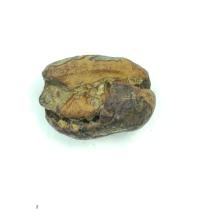NG: (39, 56, 155, 138)
